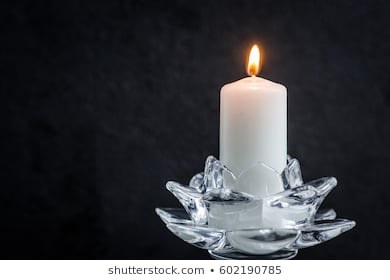Fire: (243, 38, 264, 78)
